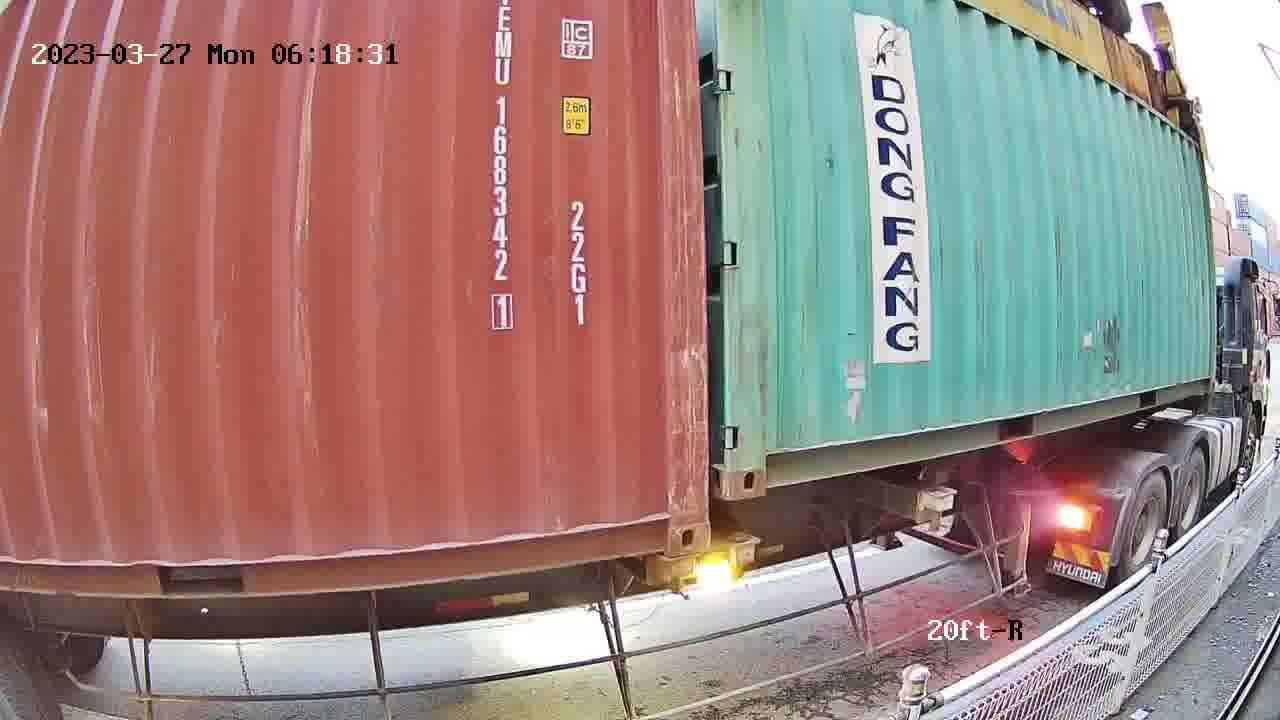Cone: (718, 529, 761, 583), (647, 554, 701, 591)
Hole_L: (727, 414, 794, 501)
Hole_R: (632, 475, 709, 556)
Tire: (1121, 472, 1170, 582), (1178, 451, 1209, 540)
